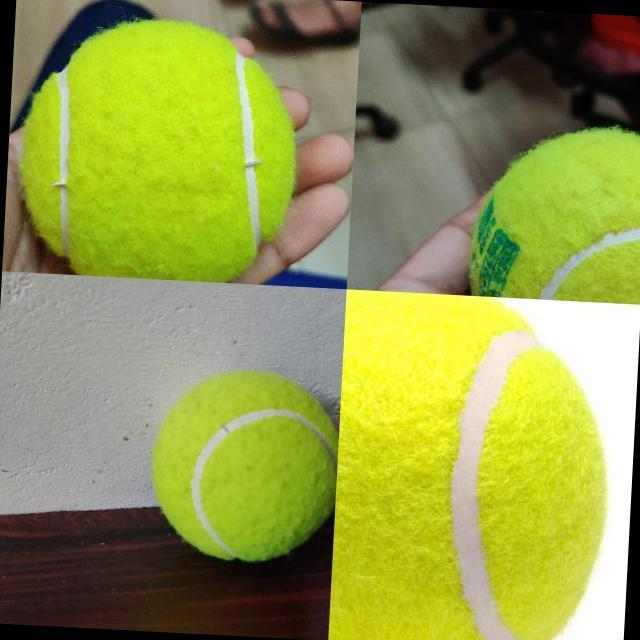Tennis Ball: (328, 289, 619, 640), (18, 16, 301, 286), (146, 364, 342, 566), (469, 123, 640, 304)
